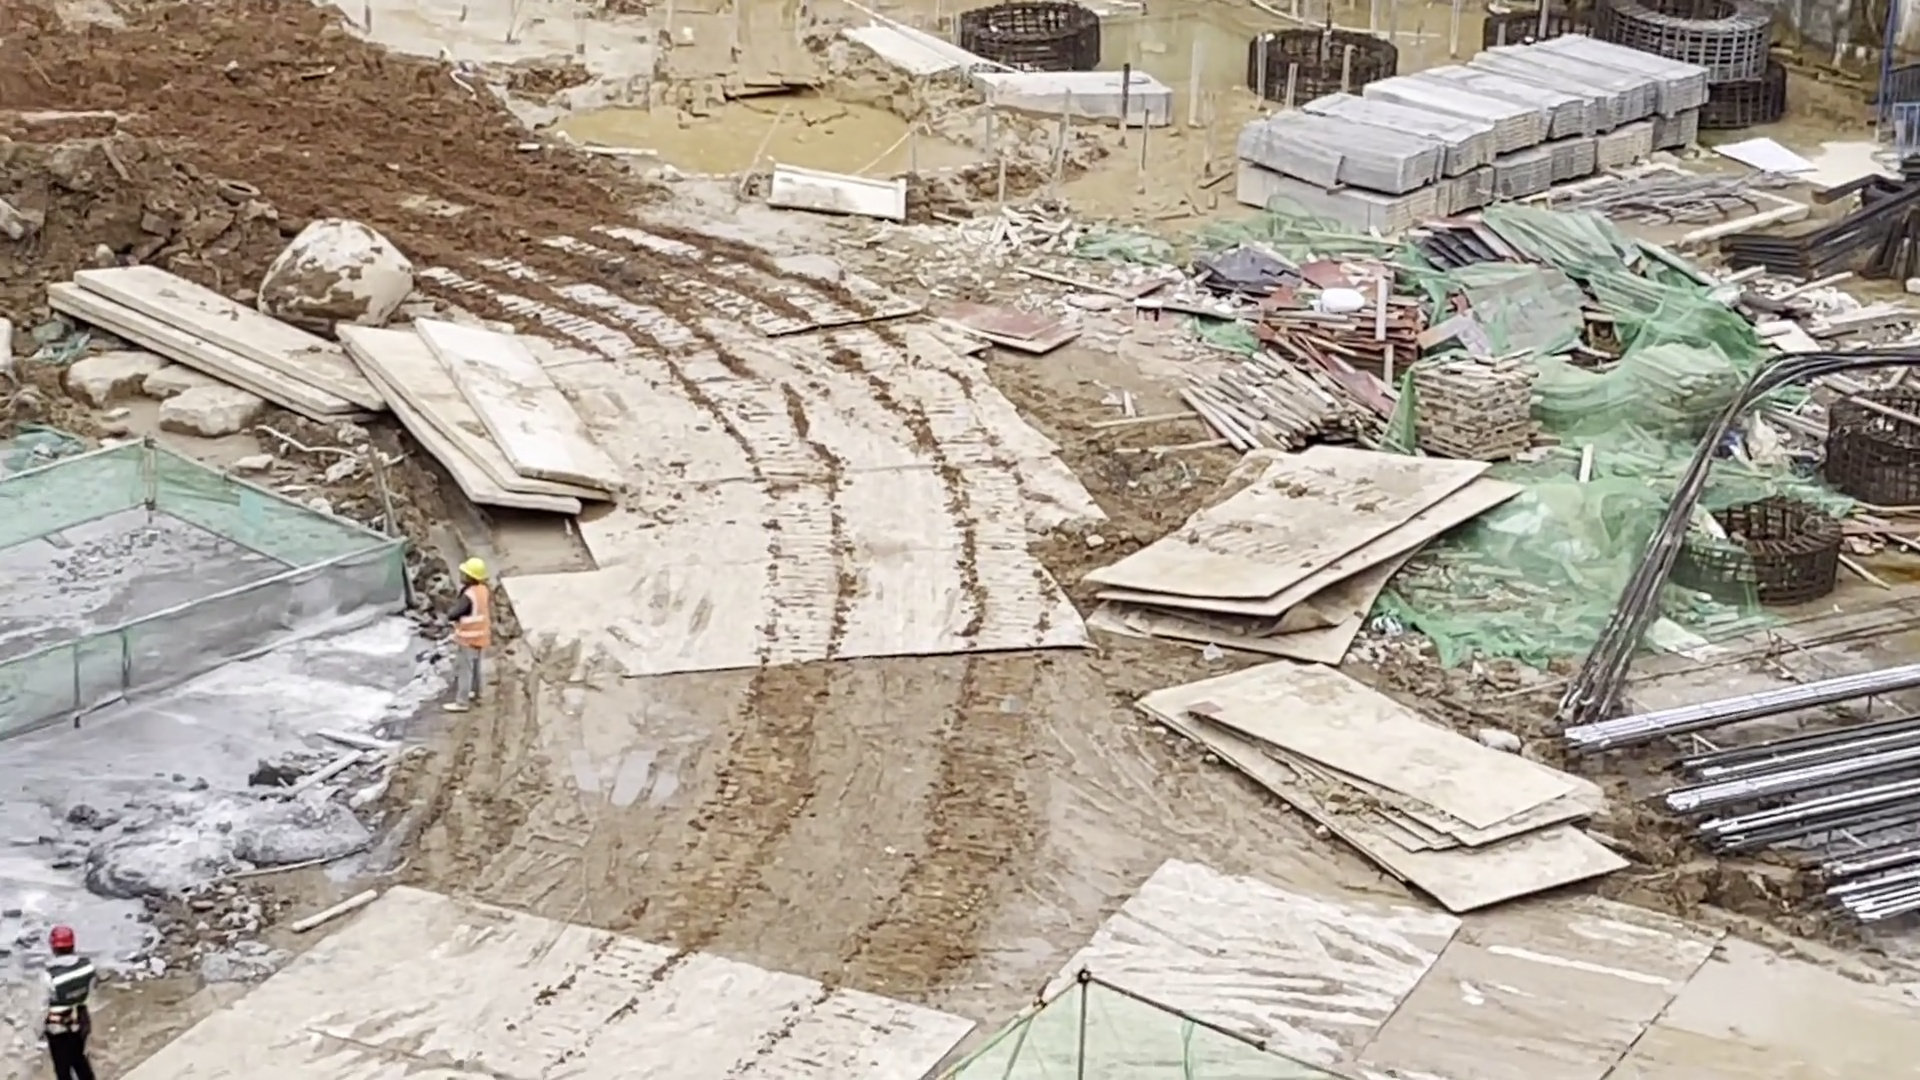helmet: (460, 556, 488, 583), (49, 926, 74, 950)
person: (32, 924, 108, 1080), (443, 556, 499, 713)
vest: (43, 954, 92, 1027), (454, 583, 491, 649)
wood: (1240, 161, 1441, 234), (1249, 111, 1429, 185), (1529, 39, 1703, 105), (1336, 90, 1488, 160), (1393, 67, 1533, 138), (1514, 50, 1652, 119), (1452, 71, 1586, 131), (1593, 119, 1656, 168), (1554, 141, 1611, 185), (1492, 153, 1547, 195), (1648, 111, 1706, 144)
